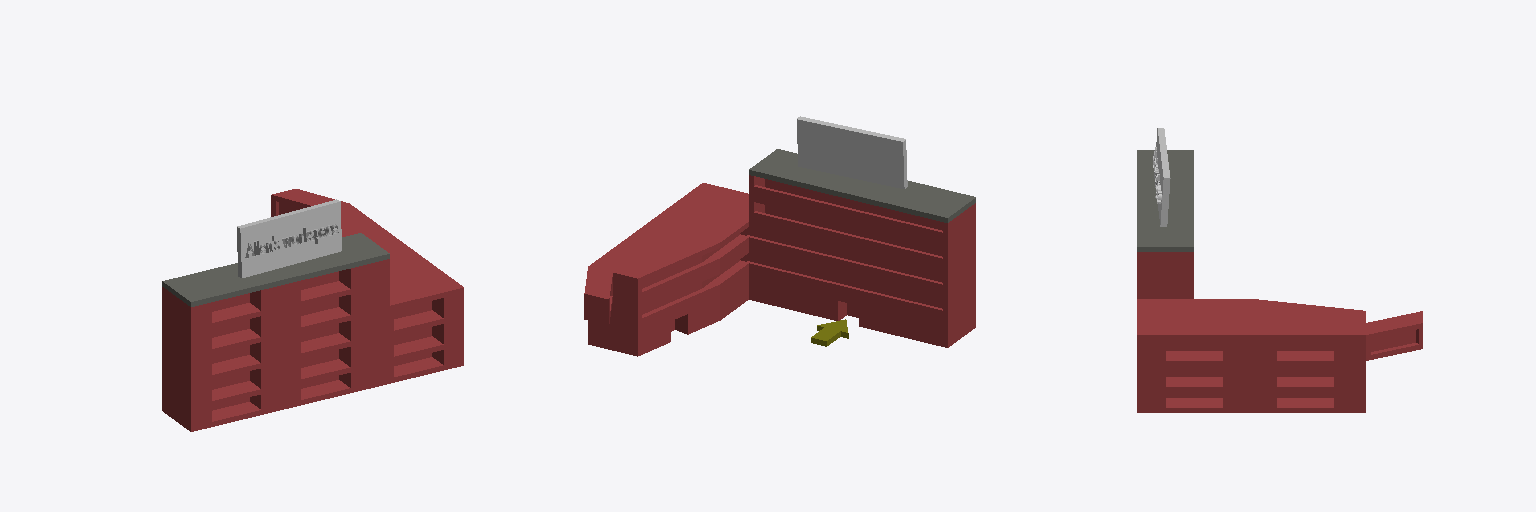
3 renders of one model, left to right at view 1: azimuth 30°, elevation 25°; view 2: azimuth 150°, elevation 25°; view 3: azimuth 270°, elevation 25°, orthographic.
Parts seen in each view (by area): view 1: lll3.001, Cube.004_Cube.005, text.004_Text.004; view 2: lll3.001, Cube.004_Cube.005; view 3: lll3.001, Cube.004_Cube.005.
Boxes of the visible parts, x1,y1,x2,y2 form: lll3.001: [162, 189, 463, 431]; Cube.004_Cube.005: [237, 199, 341, 277]; text.004_Text.004: [245, 224, 338, 258]; lll3.001: [584, 149, 975, 356]; Cube.004_Cube.005: [797, 116, 907, 188]; lll3.001: [1137, 150, 1422, 412]; Cube.004_Cube.005: [1154, 128, 1170, 226].
Bounding box in the file's own units: 55 × 34.94 × 49.99.